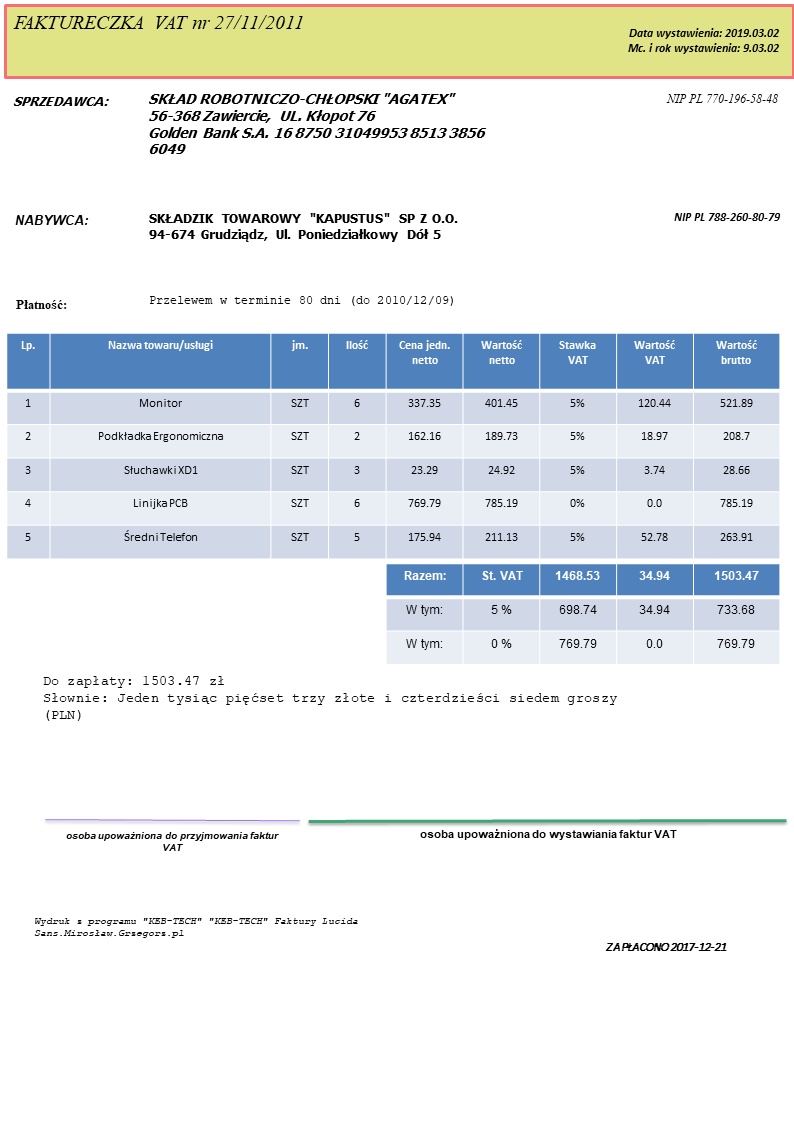Table: (5, 332, 782, 560), (385, 562, 779, 665)
TextBox: (40, 671, 619, 725), (146, 88, 488, 159), (145, 210, 462, 244), (31, 913, 361, 941), (12, 12, 304, 35), (62, 827, 282, 855), (147, 292, 456, 309), (624, 25, 783, 57), (416, 826, 679, 843), (601, 938, 729, 956), (663, 89, 782, 107), (670, 209, 784, 226), (11, 93, 111, 110), (12, 210, 90, 229), (13, 296, 68, 312)
